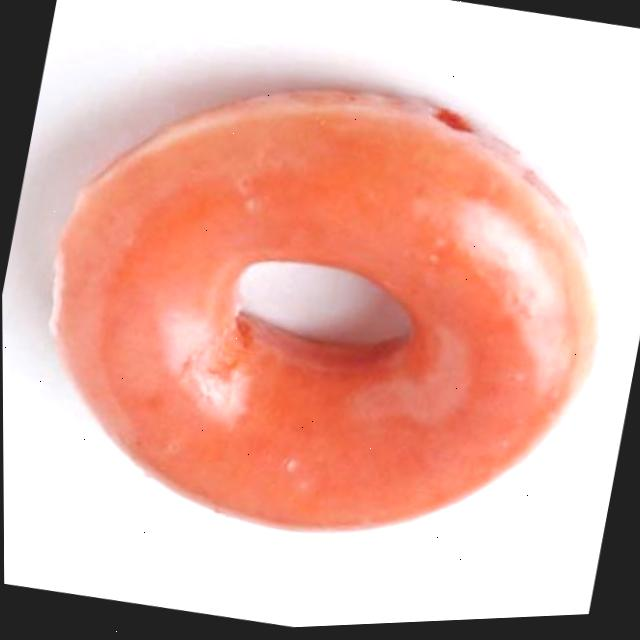炸货点心: (0, 0, 640, 630)
